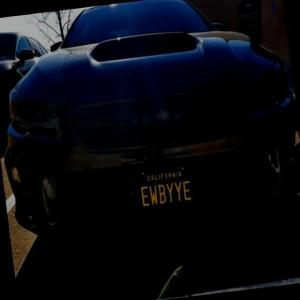Plate: (128, 162, 200, 214)
